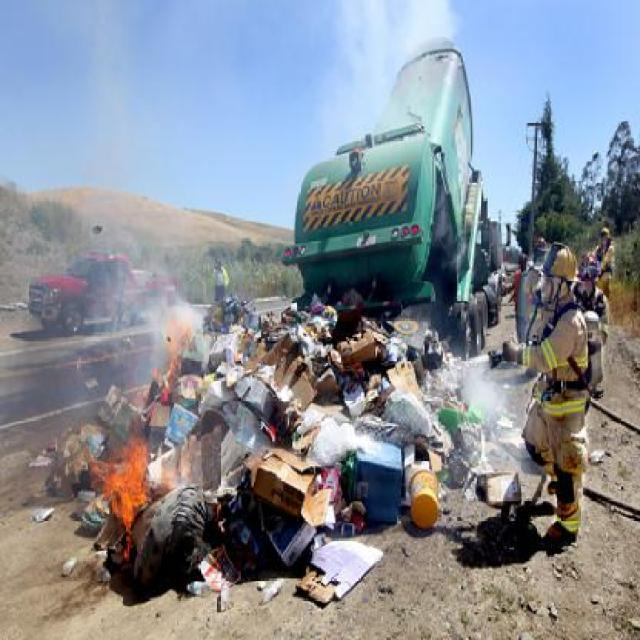Fire: (103, 435, 163, 555), (148, 313, 195, 410)
Smoke: (0, 10, 257, 570), (423, 332, 540, 543), (333, 0, 458, 157)
